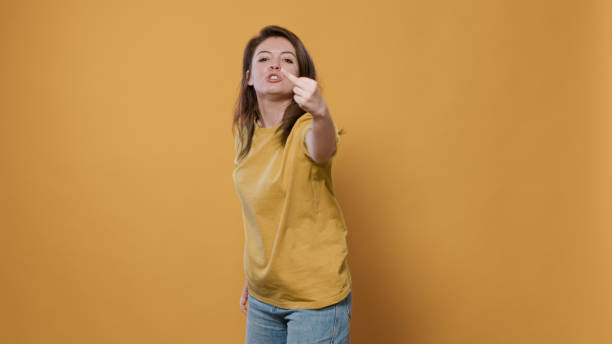insulting_gesture: (280, 65, 329, 120)
